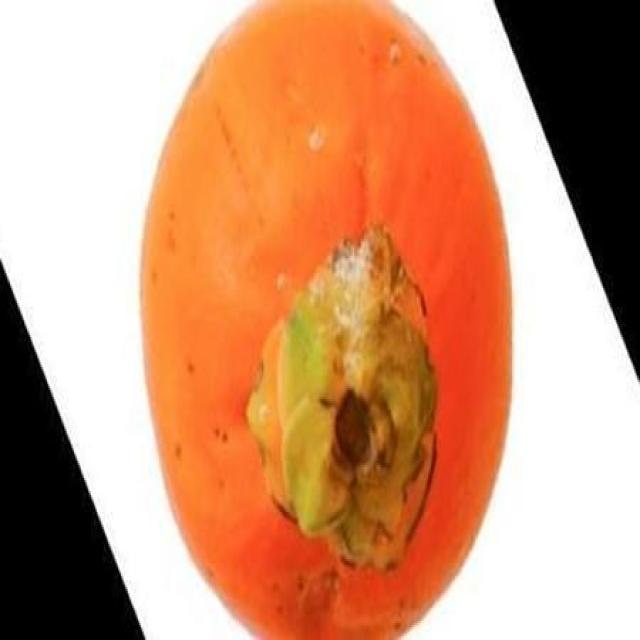good: (138, 0, 516, 638)
